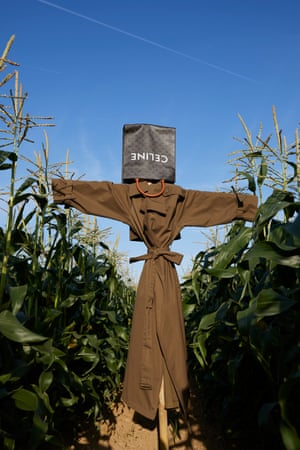person-like: (44, 119, 260, 450)
